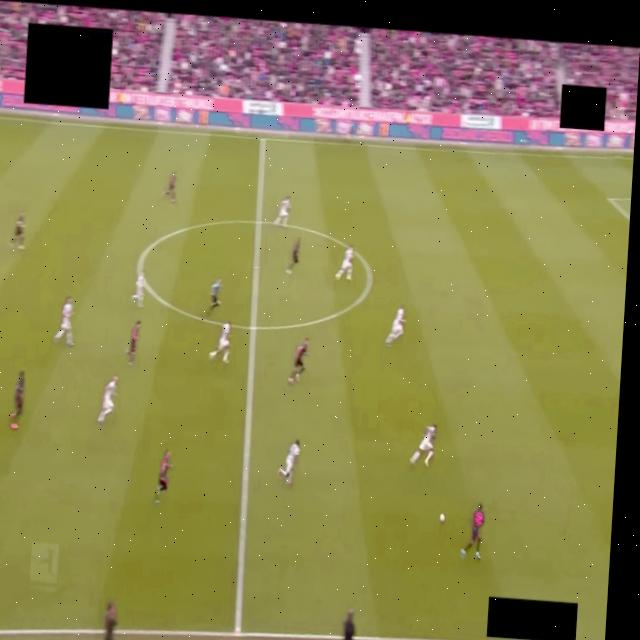ball: (439, 515, 444, 522)
player: (460, 504, 484, 559), (410, 425, 436, 466), (53, 297, 73, 346), (277, 440, 299, 484), (288, 338, 309, 383), (97, 377, 117, 423), (9, 371, 24, 429), (154, 451, 171, 502), (209, 323, 230, 362), (385, 308, 405, 347), (335, 247, 353, 280), (127, 321, 140, 365), (274, 196, 292, 227), (10, 212, 24, 250), (286, 239, 300, 274), (162, 172, 176, 203), (132, 271, 144, 307)
referee: (206, 279, 220, 314)
